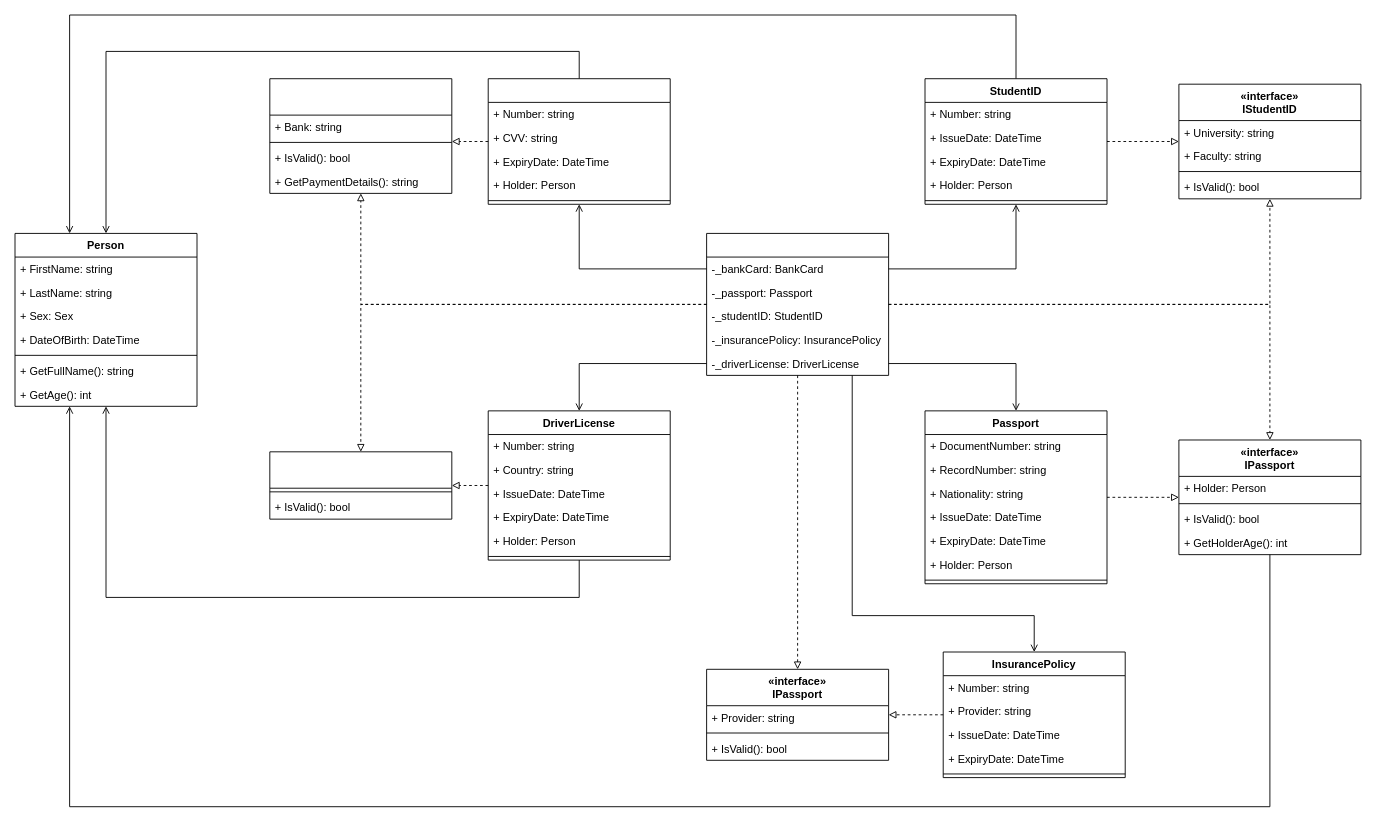
Image size: 1376x822. Some labels were removed from this diagram. Each missing label, with the box of its shape:
BankCard: (487, 78, 670, 204)
UniversalCard: (706, 233, 889, 375)
«interface» IBankCard: (269, 78, 452, 193)
«interface» IDriverLicense: (269, 451, 452, 519)
